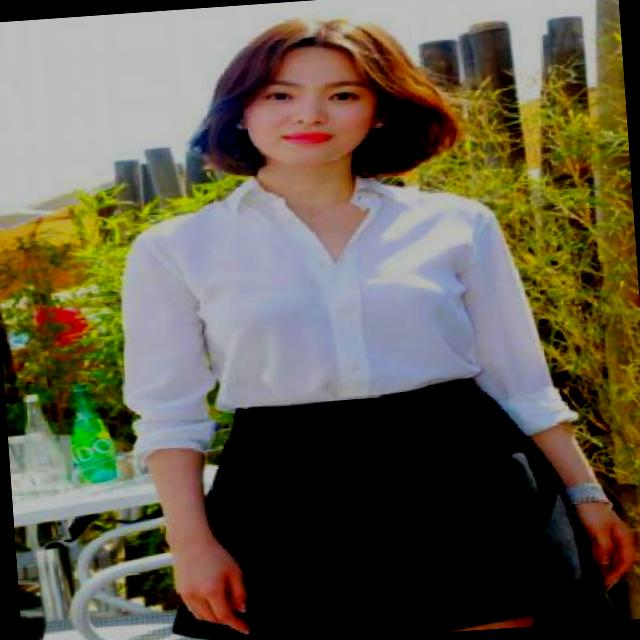Person: (80, 19, 622, 640)
